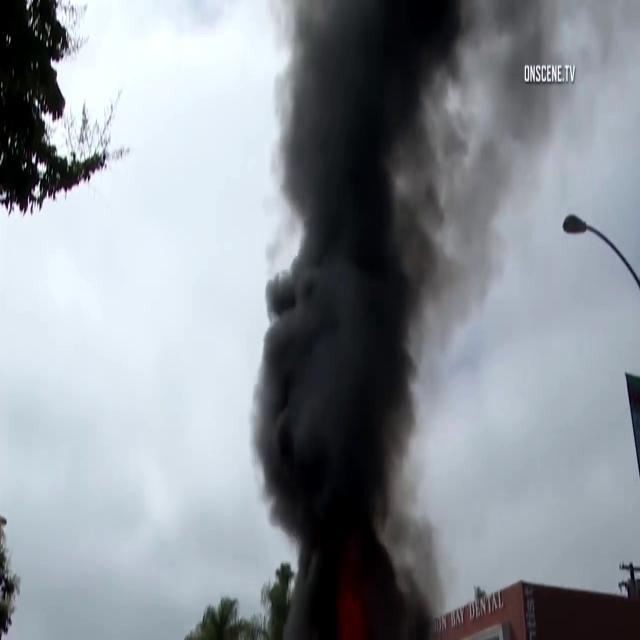Smoke: (229, 0, 538, 640)
